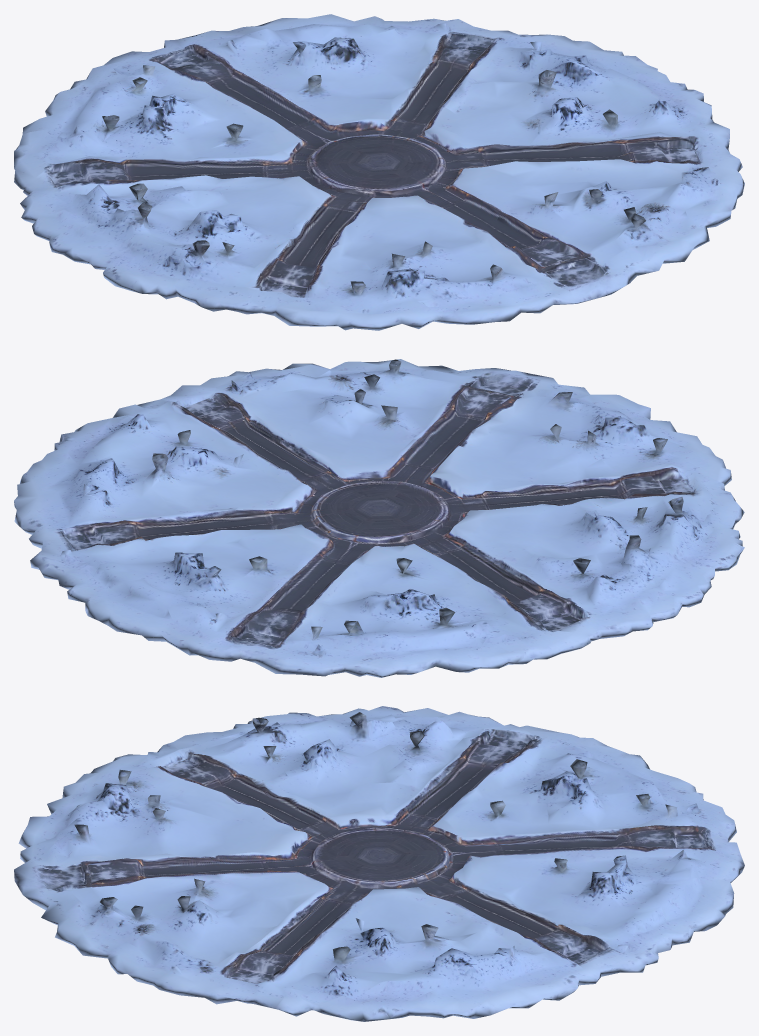
File: snowy_circular_landing_pad_3d_model.fbx
The picture shows the model from 3 angles, top to bottom: view 1: azimuth 30°, elevation 25°; view 2: azimuth 150°, elevation 25°; view 3: azimuth 270°, elevation 25°; orthographic projection.
Visible parts, largest first — view 1: tripo_node_4208f7ba; view 2: tripo_node_4208f7ba; view 3: tripo_node_4208f7ba.
Part boxes in pixels (x1,y1,x2,y2): tripo_node_4208f7ba: (14,14,744,330); tripo_node_4208f7ba: (14,359,744,677); tripo_node_4208f7ba: (14,706,744,1021).
Size of the model in its own units: 1 by 0.0667 by 0.9937.
